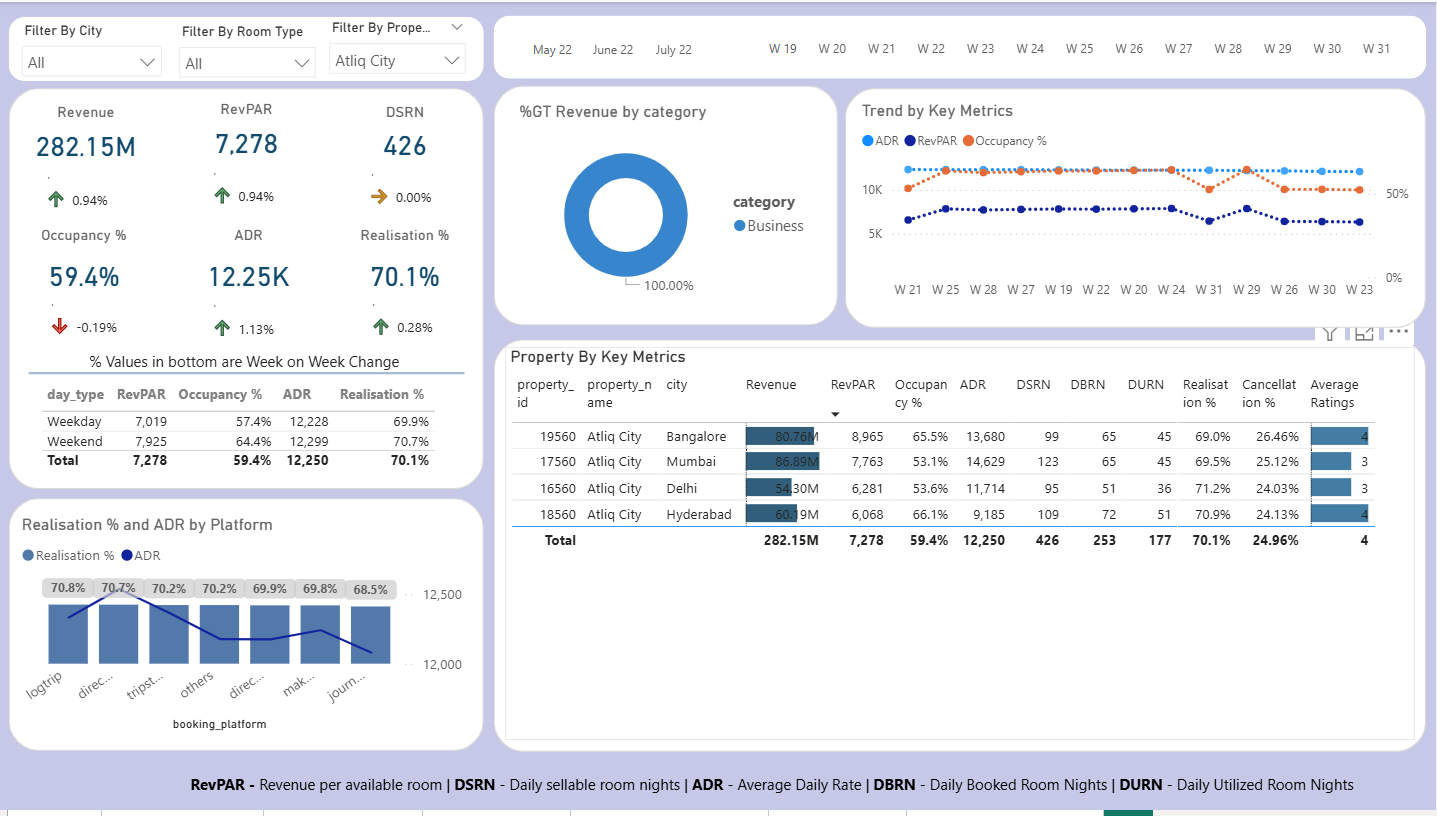

The page's visual inventory and layout, read from the dashboard file:
{"tool":"powerbi","page":{"name":"Page 1","canvas":[1280,720],"ordinal":0},"visuals":[{"type":"shape","box":[439.7,75,306.5,213.4],"z":0},{"type":"shape","box":[7.8,442.3,422.9,225],"z":1000},{"type":"shape","box":[7.8,76.3,422.9,356.9],"z":2000},{"type":"card","title":"DSRN","fields":{"Values":["Key_Measures (2).DSRN"]},"box":[296.1,90.5,129.3,59.5],"z":3000},{"type":"shape","box":[439.5,12.8,830.2,55.8],"z":4000},{"type":"shape","box":[7.8,12.9,422.9,56.9],"z":5000},{"type":"shape","box":[439.7,300,830.2,367.3],"z":6000},{"type":"tableEx","title":"Property By Key Metrics","fields":{"Values":["dim_hotels.property_id","dim_hotels.property_name","dim_hotels.city","Key_Measures (2).Revenue","Key_Measures (2).RevPAR","Key_Measures (2).Occupancy %","Key_Measures (2).Average Daily Rate (ADR)","Key_Measures (2).DSRN","Key_Measures (2).DBRN","Key_Measures (2).DURN","Key_Measures (2).Realisation %","Key_Measures (2).Cancellation %"]},"box":[450,307,810.5,351.2],"z":7000},{"type":"slicer","fields":{"Values":["dim_hotels.city"]},"box":[9.1,12.9,144.8,56.9],"z":8000},{"type":"slicer","fields":{"Values":["fact_aggregated_bookings.room_category"]},"box":[148.7,14.2,142.3,55.6],"z":9000},{"type":"slicer","fields":{"Values":["dim_date.mmm yy"]},"box":[439.5,20.9,210.5,43],"z":10000},{"type":"card","title":"Revenue","fields":{"Values":["Key_Measures (2).Revenue"]},"box":[14.2,90.5,124.1,62.1],"z":11000},{"type":"slicer","fields":{"Values":["dim_date.week no"]},"box":[650,19.8,620.9,43],"z":12000},{"type":"tableEx","fields":{"Values":["Key_Measures (2).Revenue WoW change %"]},"box":[31.2,141.4,108,56.8],"z":13000},{"type":"card","title":"RevPAR","fields":{"Values":["Key_Measures (2).RevPAR"]},"box":[146.1,87.9,147.4,60.8],"z":14000},{"type":"card","title":"Occupancy %","fields":{"Values":["Key_Measures (2).Occupancy %"]},"box":[9.1,200.4,131.9,72.4],"z":15000},{"type":"card","title":"ADR","fields":{"Values":["Key_Measures (2).ADR"]},"box":[147.4,200.4,148.7,72.4],"z":16000},{"type":"card","title":"Realisation %","fields":{"Values":["Key_Measures (2).Realisation %"]},"box":[296.1,200.4,129.3,72.4],"z":17000},{"type":"tableEx","fields":{"Values":["Key_Measures (2).Revpar WoW change %"]},"box":[179.2,138,94.6,63.5],"z":18000},{"type":"tableEx","fields":{"Values":["Key_Measures (2).DSRN WoW change %"]},"box":[319.5,139.1,96.8,63.5],"z":19000},{"type":"tableEx","fields":{"Values":["Key_Measures (2).Occupancy WoW change %"]},"box":[34.5,254.9,104.6,60.1],"z":20000},{"type":"tableEx","fields":{"Values":["Key_Measures (2).ADR WoW change %"]},"box":[179.2,256,103.5,65.7],"z":21000},{"type":"tableEx","fields":{"Values":["Key_Measures (2).Realisation WoW change %"]},"box":[320.7,254.8,94.4,66],"z":22000},{"type":"shape","box":[25.9,315.5,388,31],"z":23000},{"type":"textbox","box":[75,306.5,309.1,29.7],"z":24000},{"type":"tableEx","fields":{"Values":["dim_date.day_type","Key_Measures (2).RevPAR","Key_Measures (2).Occupancy %","Key_Measures (2).ADR","Key_Measures (2).Realisation %"]},"box":[31,336.2,375,86.6],"z":25000},{"type":"lineClusteredColumnComboChart","title":"Realisation % and ADR by Platform","fields":{"Category":["fact_bookings.booking_platform"],"Y":["Key_Measures (2).Realisation %"],"Y2":["Key_Measures (2).ADR"]},"box":[14.2,456.5,402.2,197.9],"z":26000},{"type":"donutChart","fields":{"Category":["dim_hotels.category"],"Y":["Key_Measures (2).Revenue"]},"box":[457.8,89.2,274.2,184.9],"z":27000},{"type":"shape","box":[752.6,76.3,517.3,213.4],"z":28000},{"type":"lineChart","title":"Trend by Key Metrics","fields":{"Category":["dim_date.week no"],"Y":["Key_Measures (2).ADR","Key_Measures (2).RevPAR"],"Y2":["Key_Measures (2).Occupancy %"]},"box":[763,87.9,497.9,184.9],"z":29000},{"type":"textbox","box":[164.2,682.8,1070.8,37.5],"z":30000},{"type":"slicer","fields":{"Values":["dim_hotels.property_name"]},"box":[283.2,11.6,142.3,55.6],"z":31000}]}

Visuals, with their boxes in screenshot pixels (x1, y1, x2, y2), scaled from the page's 1280x720 canvas onto the 1437x816 screenshot:
shape: [x1=494, y1=85, x2=838, y2=327]
shape: [x1=9, y1=501, x2=484, y2=756]
shape: [x1=9, y1=86, x2=484, y2=491]
"DSRN" card: [x1=332, y1=103, x2=478, y2=170]
shape: [x1=493, y1=15, x2=1425, y2=78]
shape: [x1=9, y1=15, x2=484, y2=79]
shape: [x1=494, y1=340, x2=1426, y2=756]
"Property By Key Metrics" tableEx: [x1=505, y1=348, x2=1415, y2=746]
slicer - dim_hotels.city: [x1=10, y1=15, x2=173, y2=79]
slicer - fact_aggregated_bookings.room_category: [x1=167, y1=16, x2=327, y2=79]
slicer - dim_date.mmm yy: [x1=493, y1=24, x2=730, y2=72]
"Revenue" card: [x1=16, y1=103, x2=155, y2=173]
slicer - dim_date.week no: [x1=730, y1=22, x2=1427, y2=71]
tableEx - Key_Measures (2).Revenue WoW change %: [x1=35, y1=160, x2=156, y2=225]
"RevPAR" card: [x1=164, y1=100, x2=329, y2=169]
"Occupancy %" card: [x1=10, y1=227, x2=158, y2=309]
"ADR" card: [x1=165, y1=227, x2=332, y2=309]
"Realisation %" card: [x1=332, y1=227, x2=478, y2=309]
tableEx - Key_Measures (2).Revpar WoW change %: [x1=201, y1=156, x2=307, y2=228]
tableEx - Key_Measures (2).DSRN WoW change %: [x1=359, y1=158, x2=467, y2=230]
tableEx - Key_Measures (2).Occupancy WoW change %: [x1=39, y1=289, x2=156, y2=357]
tableEx - Key_Measures (2).ADR WoW change %: [x1=201, y1=290, x2=317, y2=365]
tableEx - Key_Measures (2).Realisation WoW change %: [x1=360, y1=289, x2=466, y2=364]
shape: [x1=29, y1=358, x2=465, y2=393]
textbox: [x1=84, y1=347, x2=431, y2=381]
tableEx - dim_date.day_type x Key_Measures (2).RevPAR: [x1=35, y1=381, x2=456, y2=479]
"Realisation % and ADR by Platform" lineClusteredColumnComboChart: [x1=16, y1=517, x2=467, y2=742]
donutChart - dim_hotels.category x Key_Measures (2).Revenue: [x1=514, y1=101, x2=822, y2=311]
shape: [x1=845, y1=86, x2=1426, y2=328]
"Trend by Key Metrics" lineChart: [x1=857, y1=100, x2=1416, y2=309]
textbox: [x1=184, y1=774, x2=1386, y2=815]
slicer - dim_hotels.property_name: [x1=318, y1=13, x2=478, y2=76]
